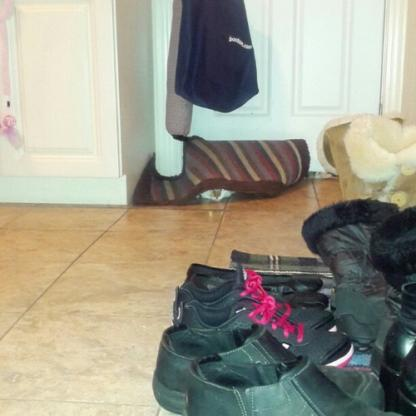Target: (192, 185, 242, 206)
